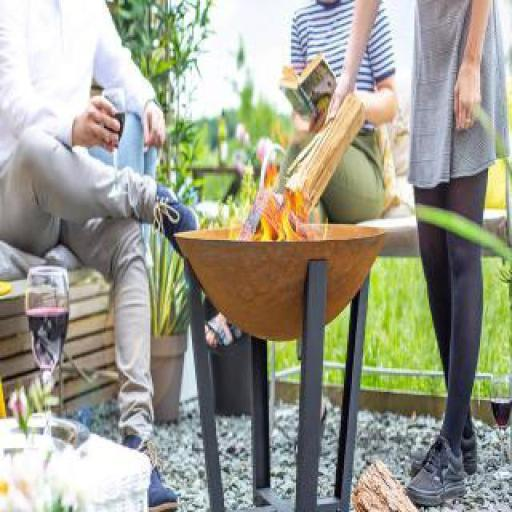smoke: (226, 166, 304, 258)
